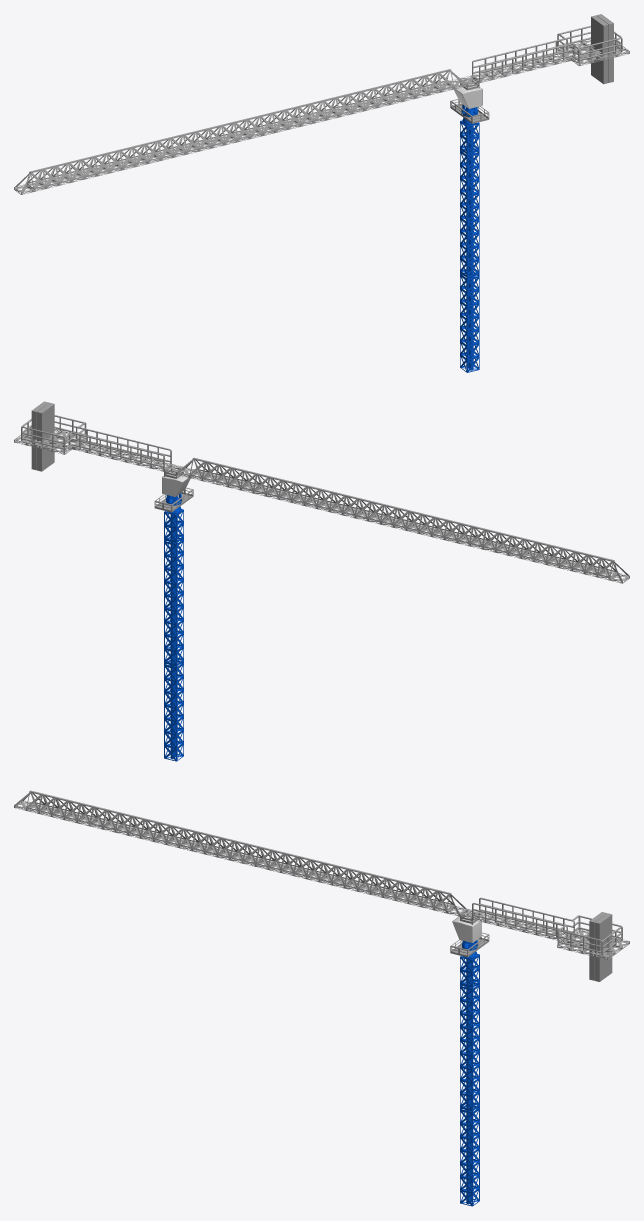
The model's file is SM_crane.fbx.
3 views of the same model, one above another, from view 1: azimuth 30°, elevation 25°; view 2: azimuth 150°, elevation 25°; view 3: azimuth 330°, elevation 25° (orthographic).
Visible parts, largest first — view 1: pCube359; view 2: pCube359; view 3: pCube359.
Boxes of the visible parts, x1,y1,x2,y2 form: pCube359: [14, 14, 629, 372]; pCube359: [14, 401, 629, 761]; pCube359: [14, 790, 629, 1206].
Size of the model in its own units: 10105 by 5098 by 646.
